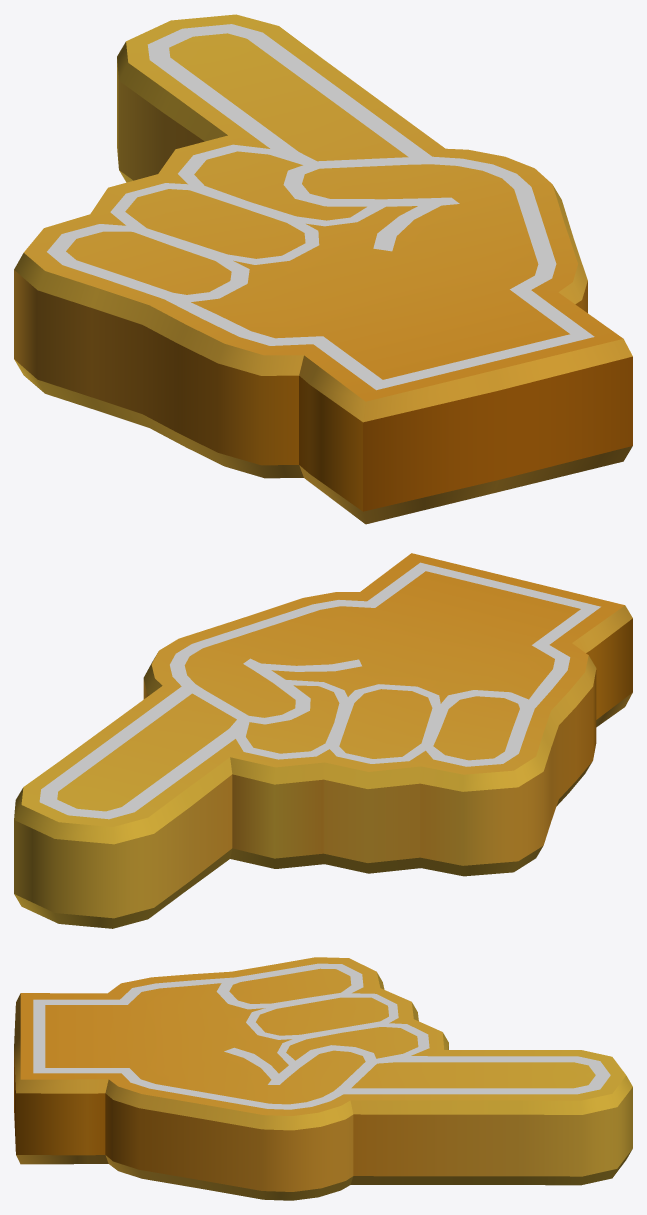
Rendered from Melee_FoamFinger.fbx.
3 views of the same model, one above another, from view 1: azimuth 30°, elevation 25°; view 2: azimuth 150°, elevation 25°; view 3: azimuth 270°, elevation 25° (orthographic). The views are drawn at different scales.
Visible parts, largest first — view 1: Melee_FoamFinger; view 2: Melee_FoamFinger; view 3: Melee_FoamFinger.
Boxes of the visible parts, bbox=[...] form: Melee_FoamFinger: bbox=[14, 14, 632, 524]; Melee_FoamFinger: bbox=[14, 553, 632, 928]; Melee_FoamFinger: bbox=[14, 957, 632, 1200].
Size of the model in its own units: 0.6366 by 1.01 by 0.1527.
